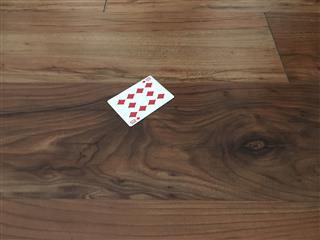TenOfDiamonds: (106, 74, 175, 127)
